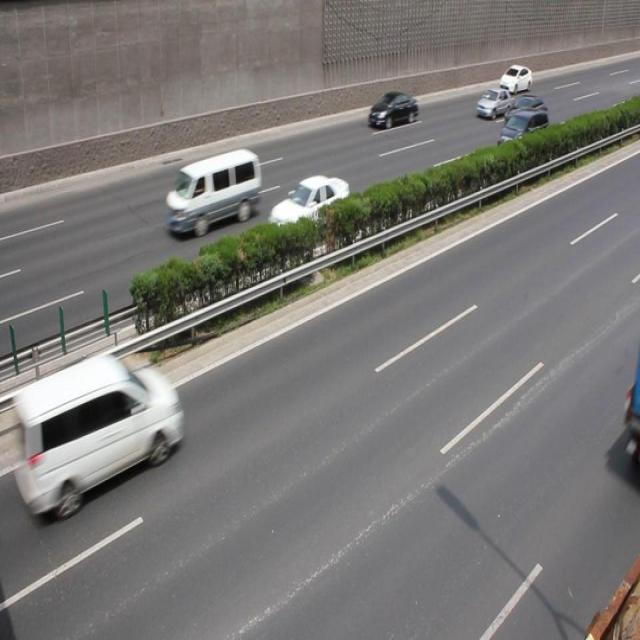car: (34, 356, 182, 508), (268, 175, 351, 248), (496, 105, 548, 159), (368, 90, 418, 130), (502, 92, 547, 132), (474, 85, 511, 121), (498, 64, 531, 96)
truck: (164, 149, 260, 237)
